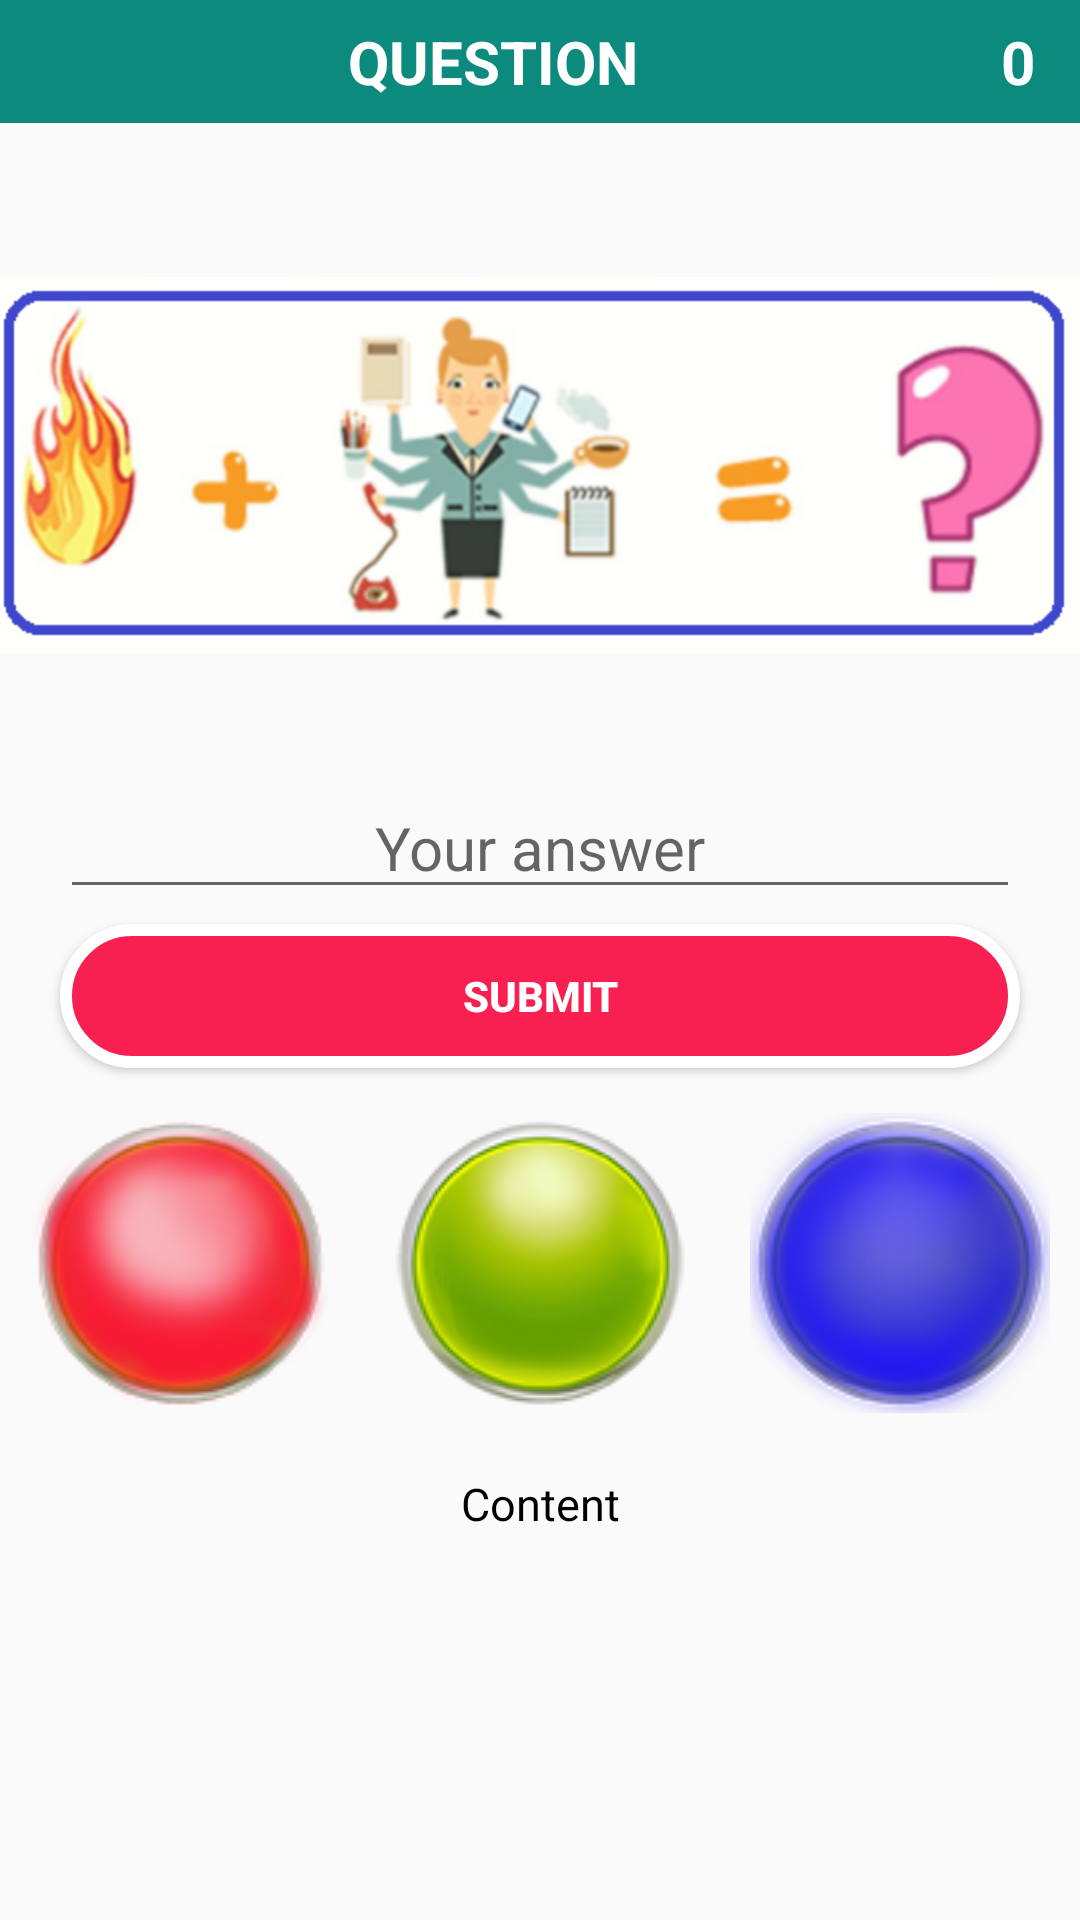

Screen size 1080w x 1920h. Icon name, then its center in pixels as (x=x, y=y):
nutdo: (x=180, y=1264)
nutxanh: (x=540, y=1263)
nutxd: (x=900, y=1267)
